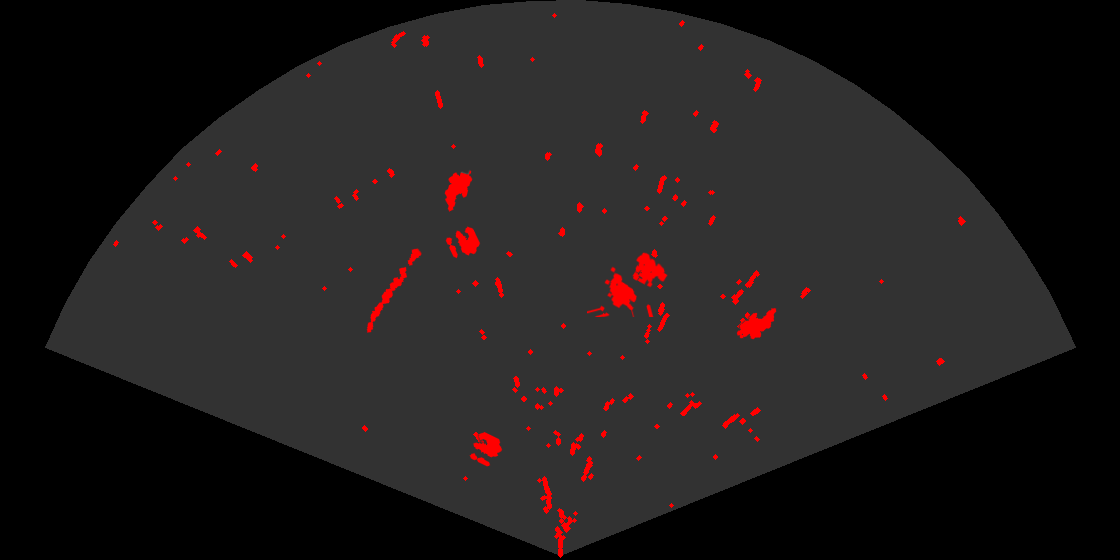AUV: (735, 306, 778, 341), (443, 169, 474, 213)
ball: (468, 430, 504, 468), (444, 225, 482, 260)
cage: (587, 251, 669, 317)
chain: (365, 247, 423, 334)
